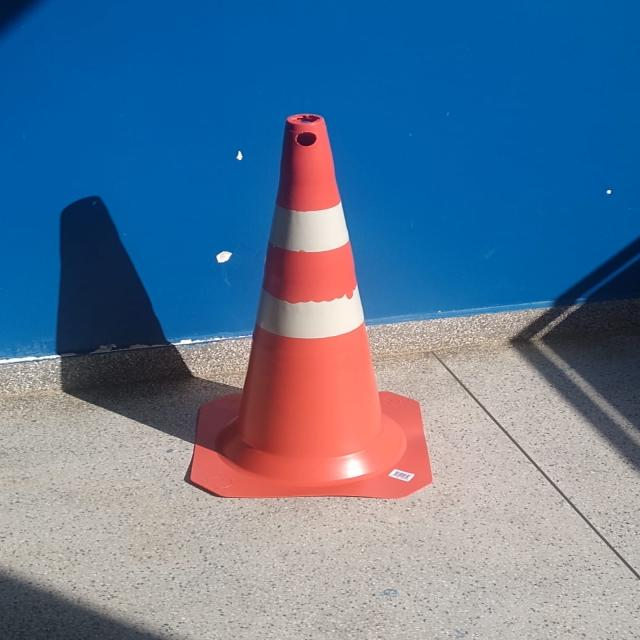cone: (185, 109, 435, 499)
